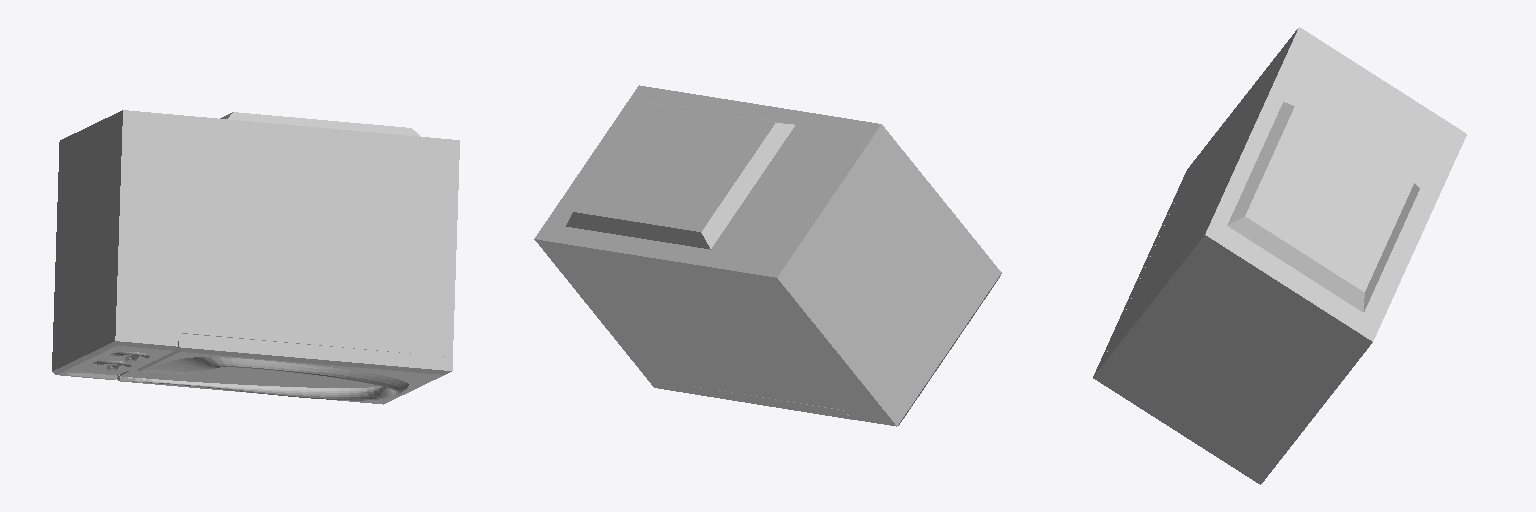
The model's file is microondas.obj.
The picture shows the model from 3 angles: view 1: azimuth 30°, elevation 25°; view 2: azimuth 150°, elevation 25°; view 3: azimuth 270°, elevation 25°; orthographic projection.
Visible parts, largest first — view 1: Plane.001, Plane.003_Plane.016; view 2: Plane.001, Plane.003_Plane.016; view 3: Plane.001, Plane.003_Plane.016.
Boxes of the visible parts, x1=… form: Plane.001: x1=52, y1=110, x2=459, y2=379; Plane.003_Plane.016: x1=117, y1=333, x2=452, y2=404; Plane.001: x1=534, y1=85, x2=1001, y2=426; Plane.003_Plane.016: x1=647, y1=379, x2=851, y2=419; Plane.001: x1=1100, y1=27, x2=1466, y2=475; Plane.003_Plane.016: x1=1093, y1=202, x2=1267, y2=484.
Bounding box in the file's own units: 186 × 161 × 161.